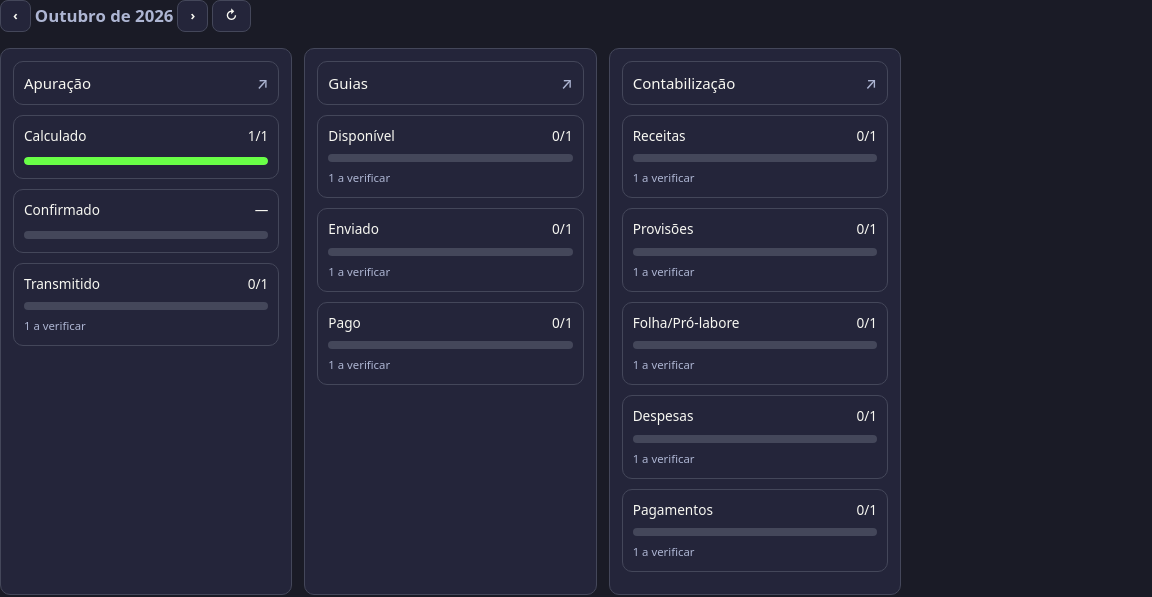
Test case: detalhe mantém guarda de operação e invalida o contexto ao trocar competência
Click the button with aria-label "Calculado 1/1 empresas". click: {"x": 55, "y": 136}
box: left=13, top=115, right=279, bottom=179
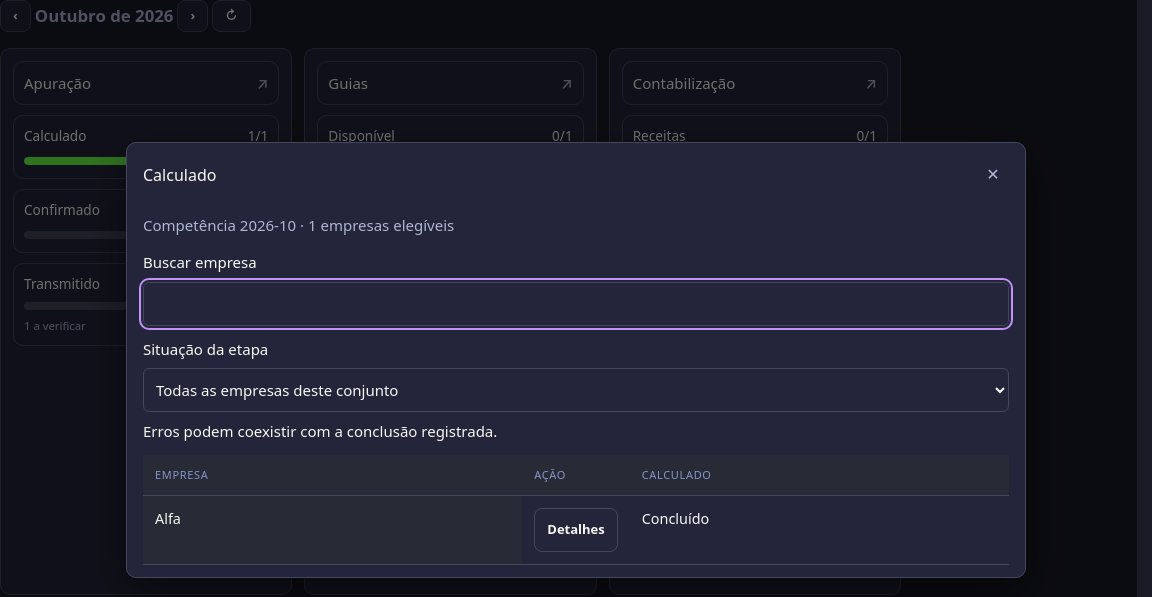
Click the button with aria-label "Ver evidências de Alfa". click: {"x": 576, "y": 530}
box: left=534, top=508, right=618, bottom=552
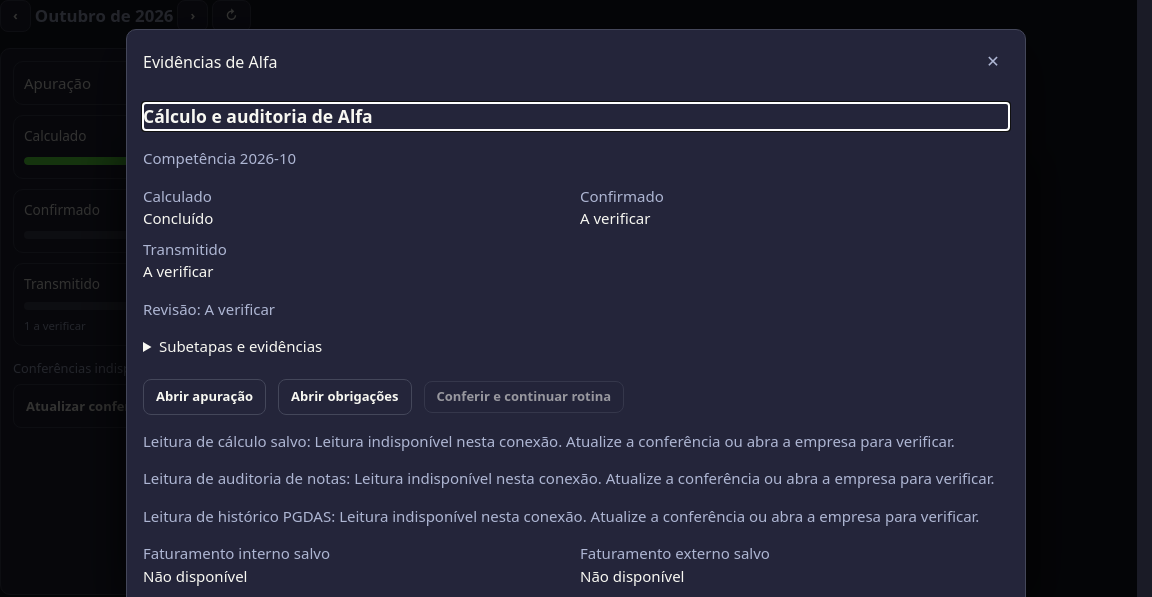
Result: the text "Leitura de cálculo salvo:" is shown at left=143, top=430, right=1009, bottom=452
Result: the button "Conferir e continuar rotina" is disabled at left=424, top=381, right=624, bottom=413
